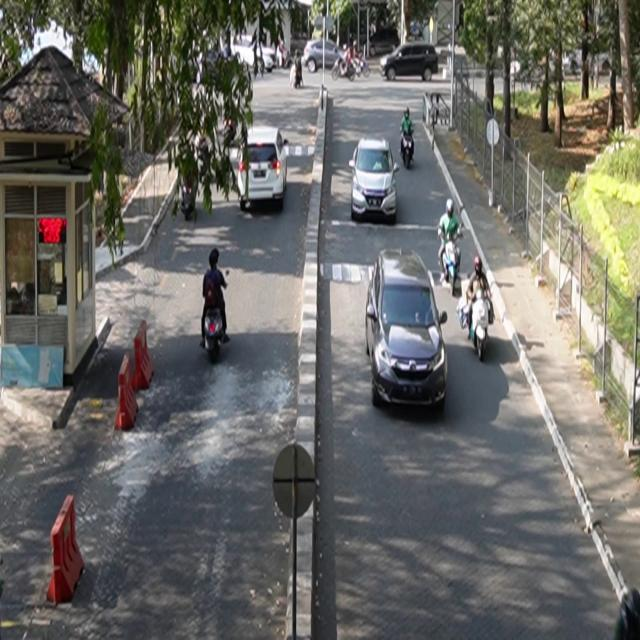car: (366, 248, 449, 411), (238, 126, 290, 212), (350, 138, 401, 225), (381, 43, 440, 82), (304, 39, 346, 74)
